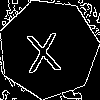X: (23, 24, 62, 73)
